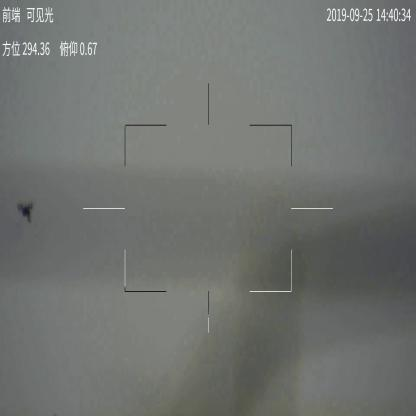uav: (14, 201, 36, 225)
